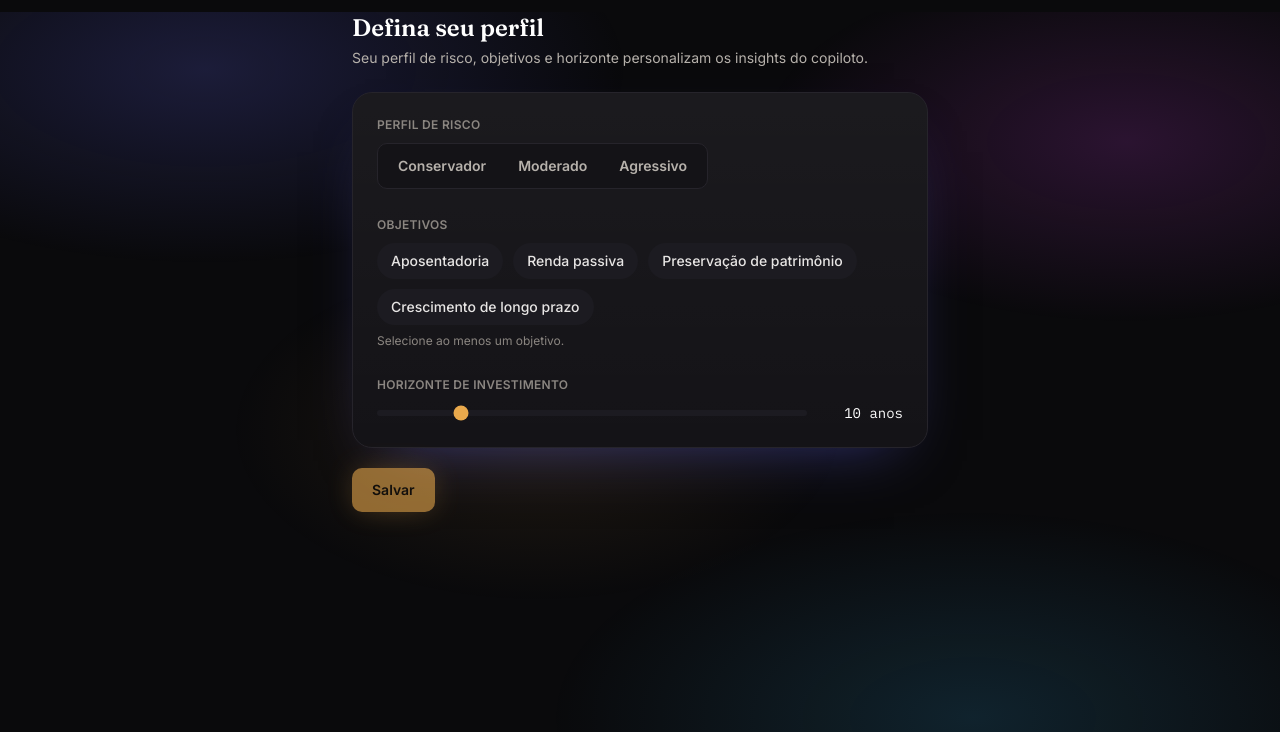
Test: ProfilePage (SPEC-210) › gates Salvar on validation (≥1 objective required)
The width and height of the screenshot is (1280, 732).
Expected: the button "Salvar" is disabled, 352,468 -> 435,512
Click the radio button labelled "Moderado": (553,166) 502,148 -> 603,184
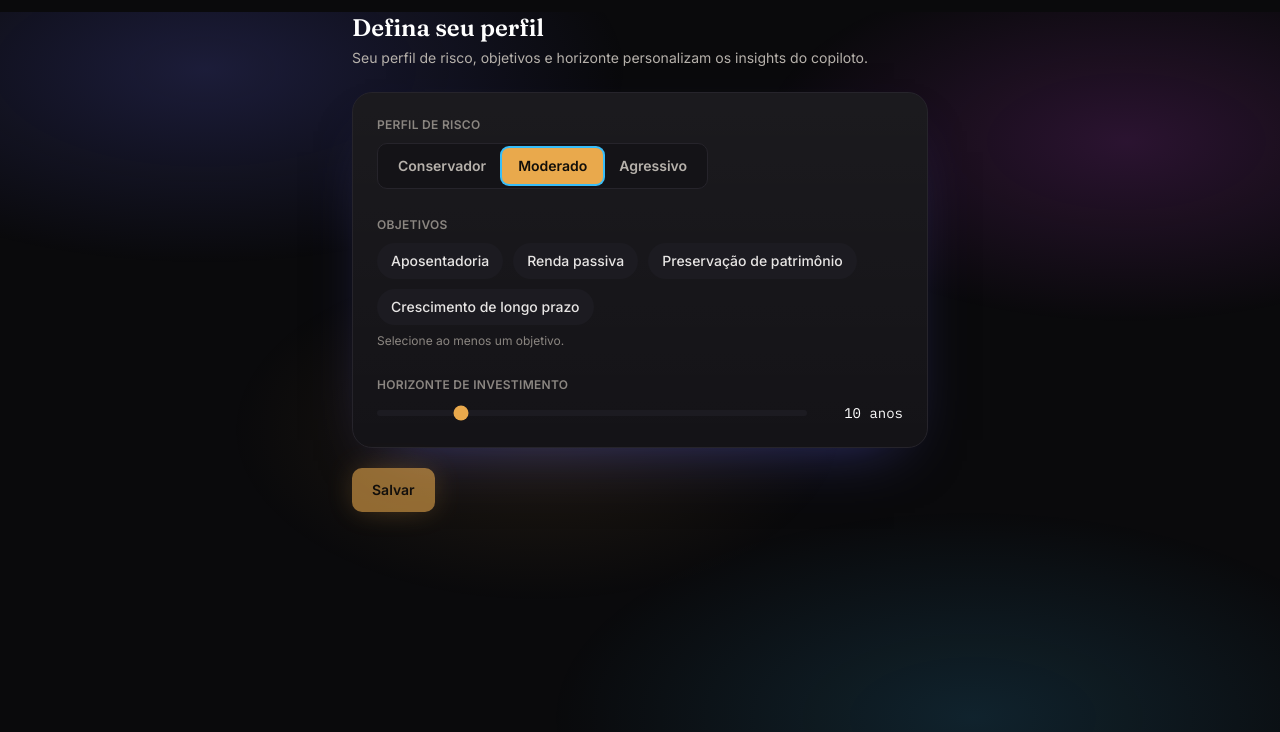
Expected: the button "Salvar" is disabled, 352,468 -> 435,512
Click the checkbox labelled "Renda passiva": (576,261) 513,243 -> 638,279
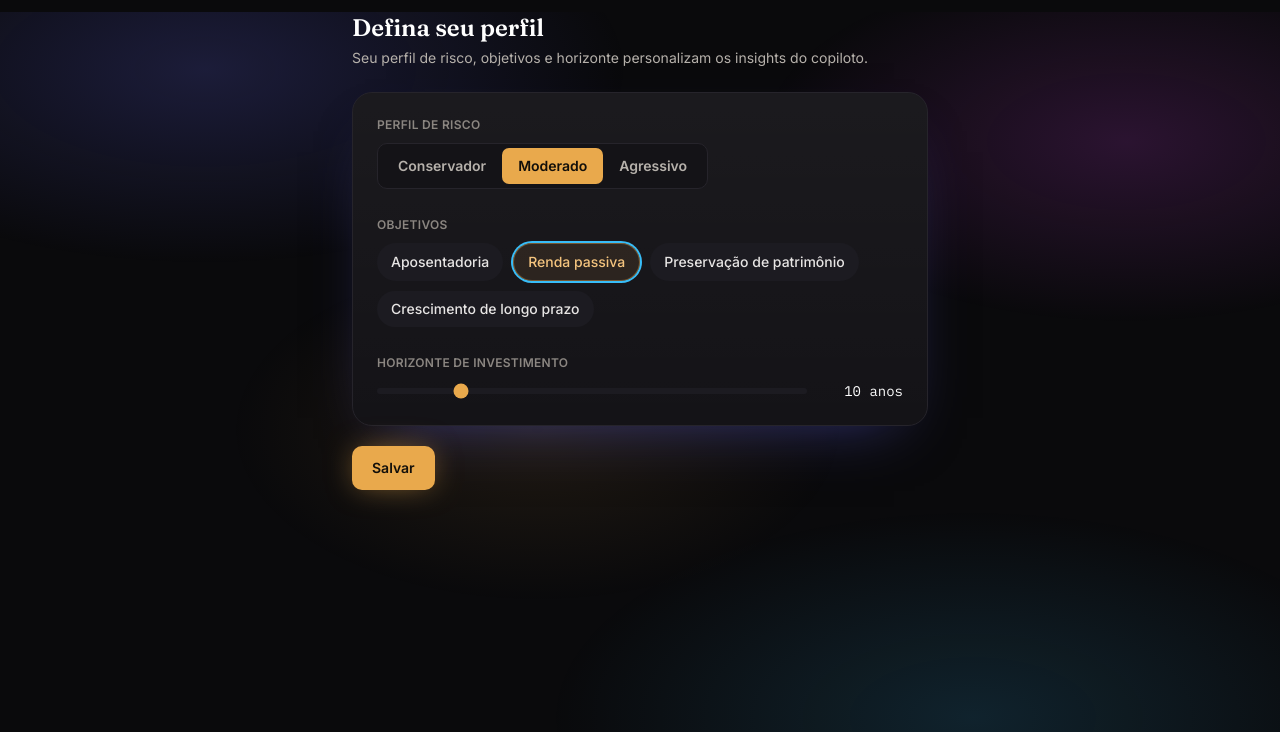
Expected: the button "Salvar" is enabled, 352,446 -> 435,490
Click the checkbox labelled "Renda passiva": (577,262) 513,243 -> 640,281
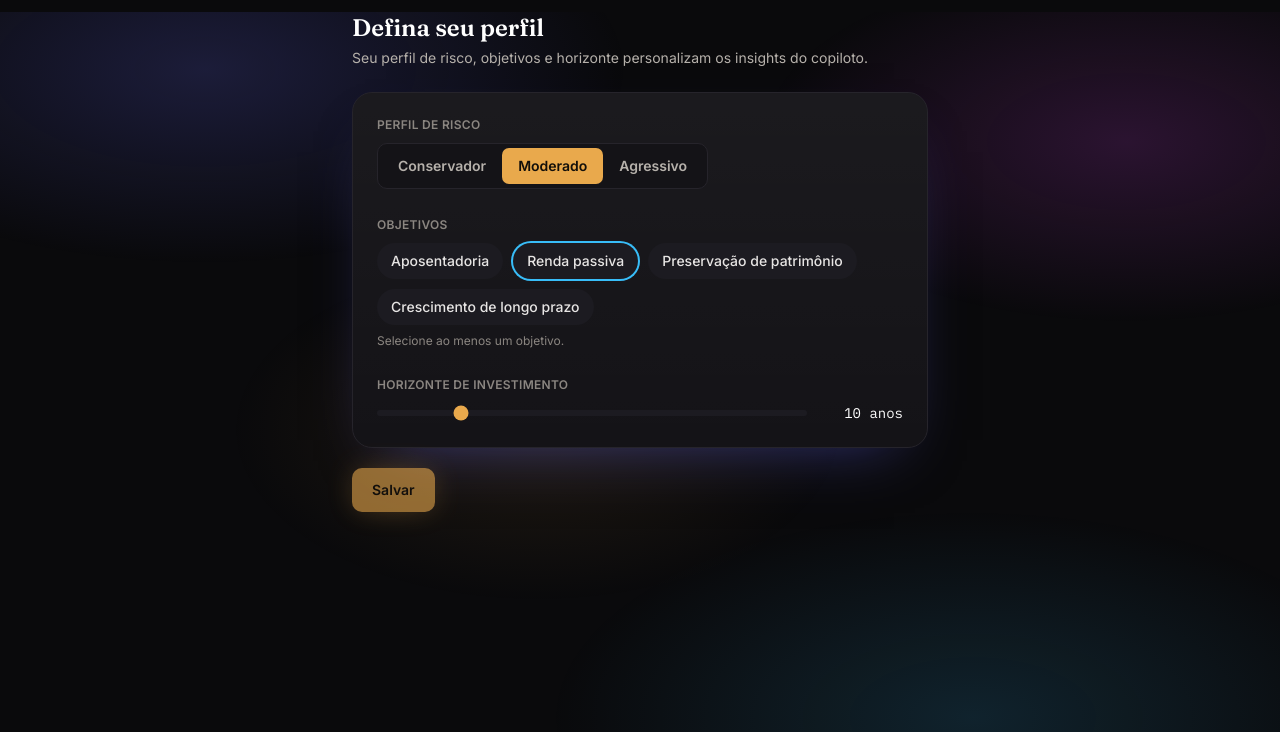
Expected: the button "Salvar" is disabled, 352,468 -> 435,512
